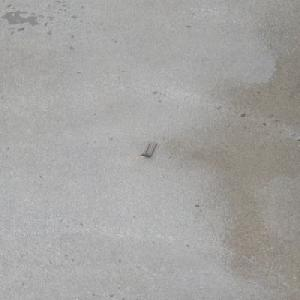MetalPart: (137, 141, 157, 157)
